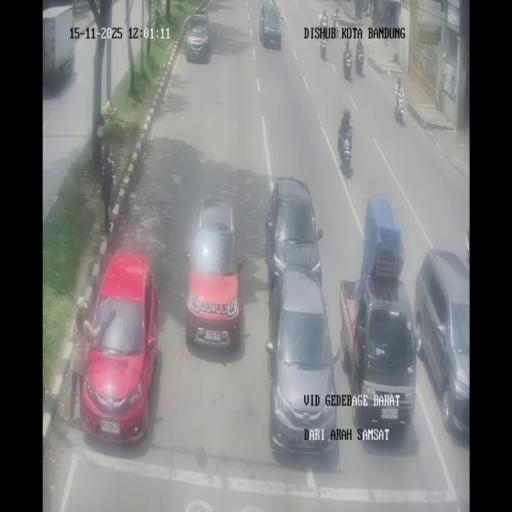car: (79, 251, 159, 444), (267, 268, 339, 458), (413, 250, 469, 440), (184, 199, 246, 350), (258, 2, 282, 49)
motorcycle: (338, 124, 354, 174), (394, 89, 405, 125), (342, 48, 353, 80), (355, 46, 365, 76), (318, 13, 328, 39), (320, 35, 328, 60), (465, 224, 469, 267), (333, 15, 340, 37), (362, 0, 368, 16)
truck: (41, 4, 74, 90)
